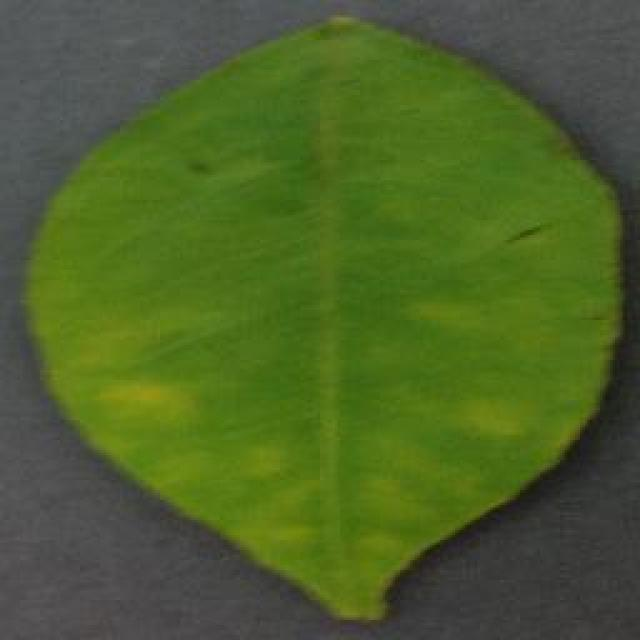Orange_Haunglongbing_Citrus_greening: (86, 85, 589, 534)
